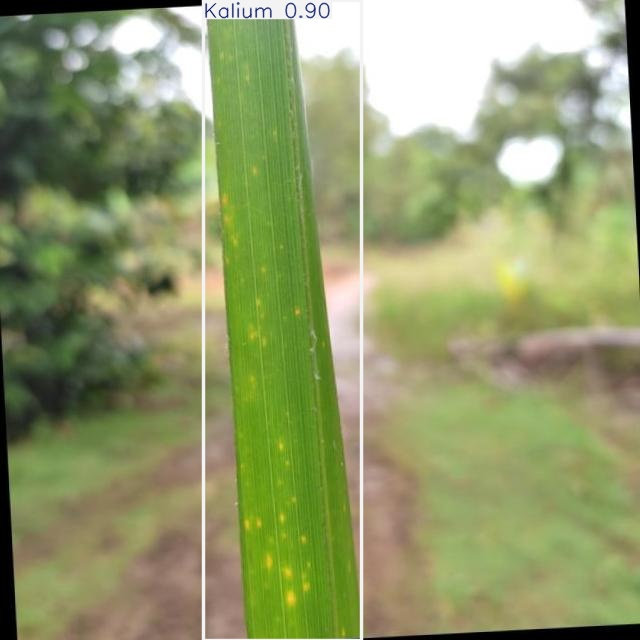Kalium: (204, 0, 362, 640)
